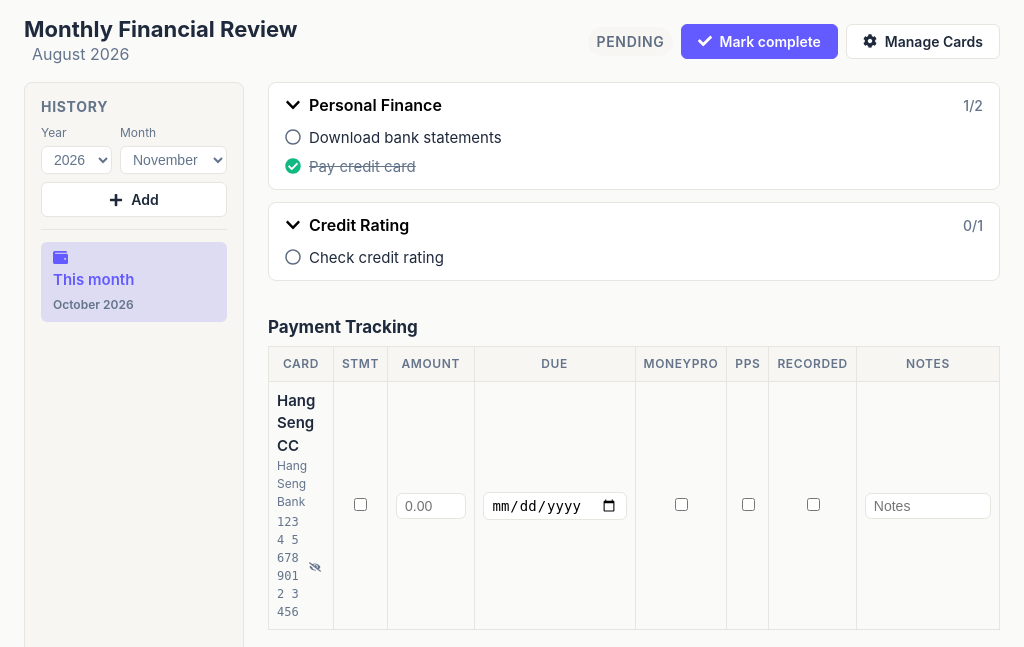
Scenario: MonthlyReview › unmasks the account number when the user clicks the show toggle after hiding
The image size is (1024, 647).
Expected: the text "Hang Seng CC" is shown, [277,391,315,455]
# First hide
Click the button named "Hide account number" at x=315, y=567, box [305,559,325,575]
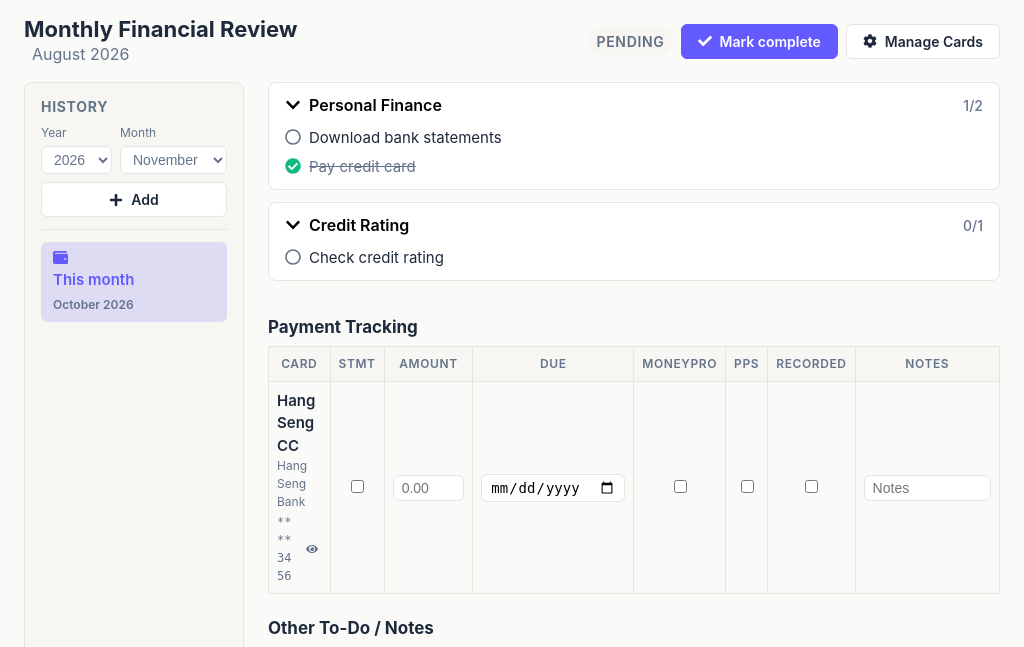
Expected: the text "****3456" is shown, [277,515,292,583]
# Then show again
Click the button named "Show account number" at x=312, y=549, box [302,541,322,557]
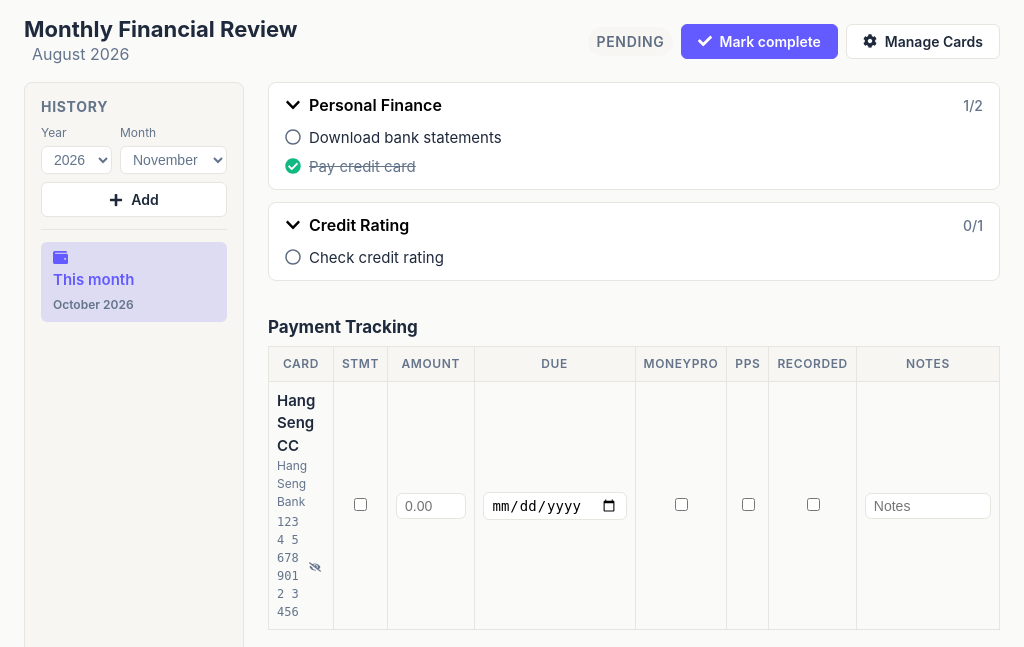
Expected: the text "1234 5678 9012 3456" is shown, [277,513,301,621]
Expected: the text "****3456" is gone
